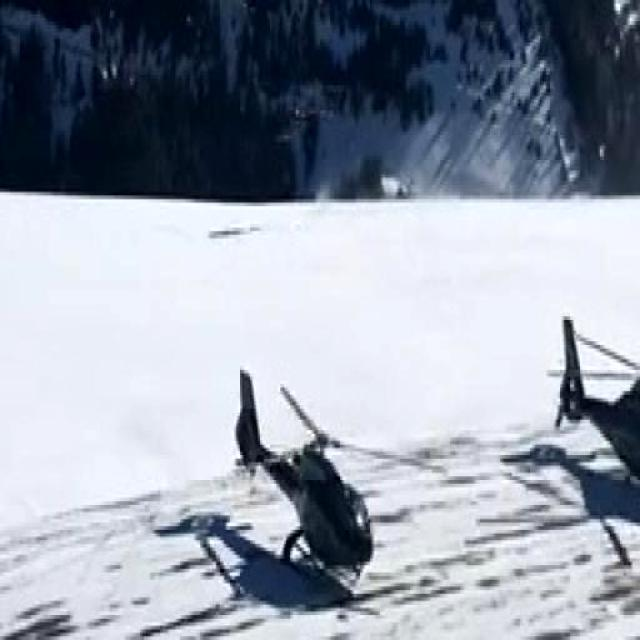drone: (232, 368, 375, 588), (555, 310, 640, 532)
